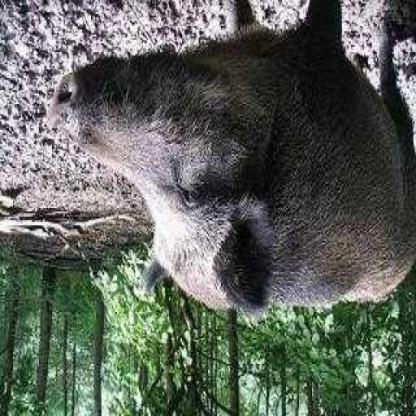boar: (25, 1, 415, 334)
